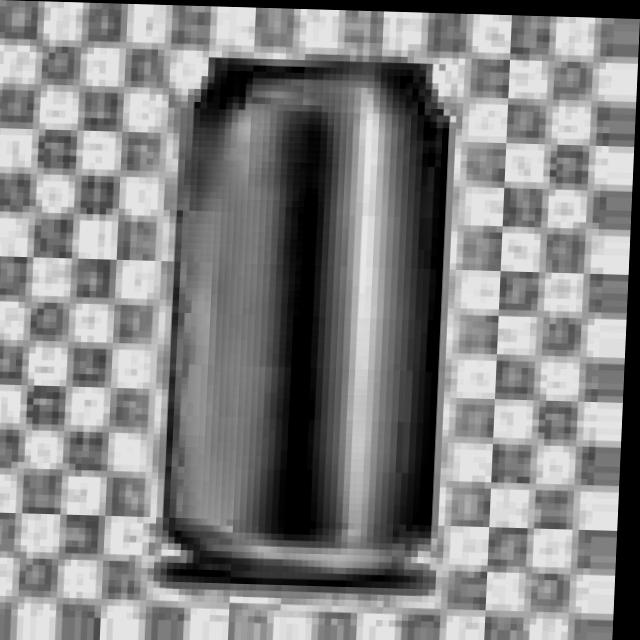can: (158, 28, 473, 597)
